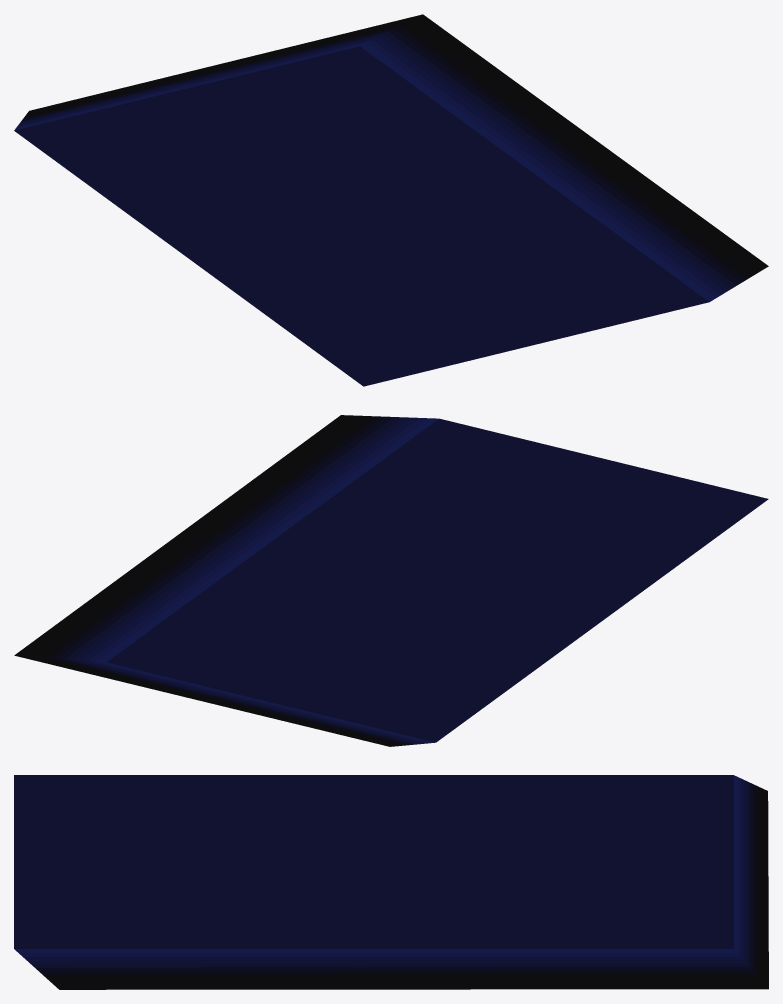
3 renders of one model, top to bottom at view 1: azimuth 30°, elevation 25°; view 2: azimuth 150°, elevation 25°; view 3: azimuth 270°, elevation 25°, orthographic. The views are drawn at different scales.
Parts seen in each view (by area): view 1: Joint_0_Object_0; view 2: Joint_0_Object_0; view 3: Joint_0_Object_0.
Boxes of the visible parts, bbox=[...] form: Joint_0_Object_0: bbox=[14, 14, 768, 386]; Joint_0_Object_0: bbox=[14, 415, 768, 746]; Joint_0_Object_0: bbox=[14, 775, 768, 989].
Size of the model in its own units: 327 by 0 by 486.
1 material, 1 textured.
